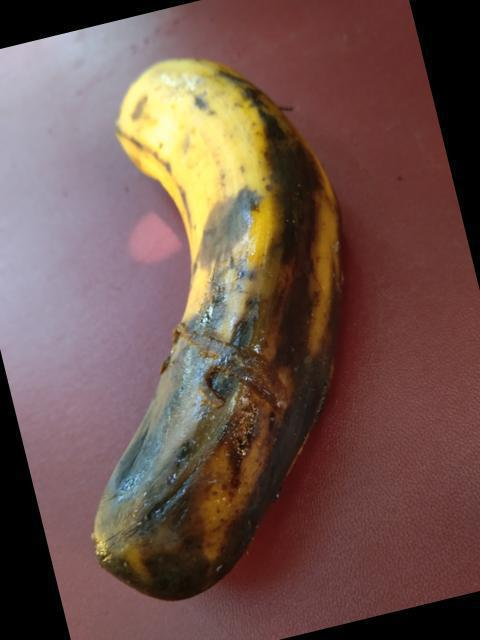rotten: (54, 42, 387, 639)
